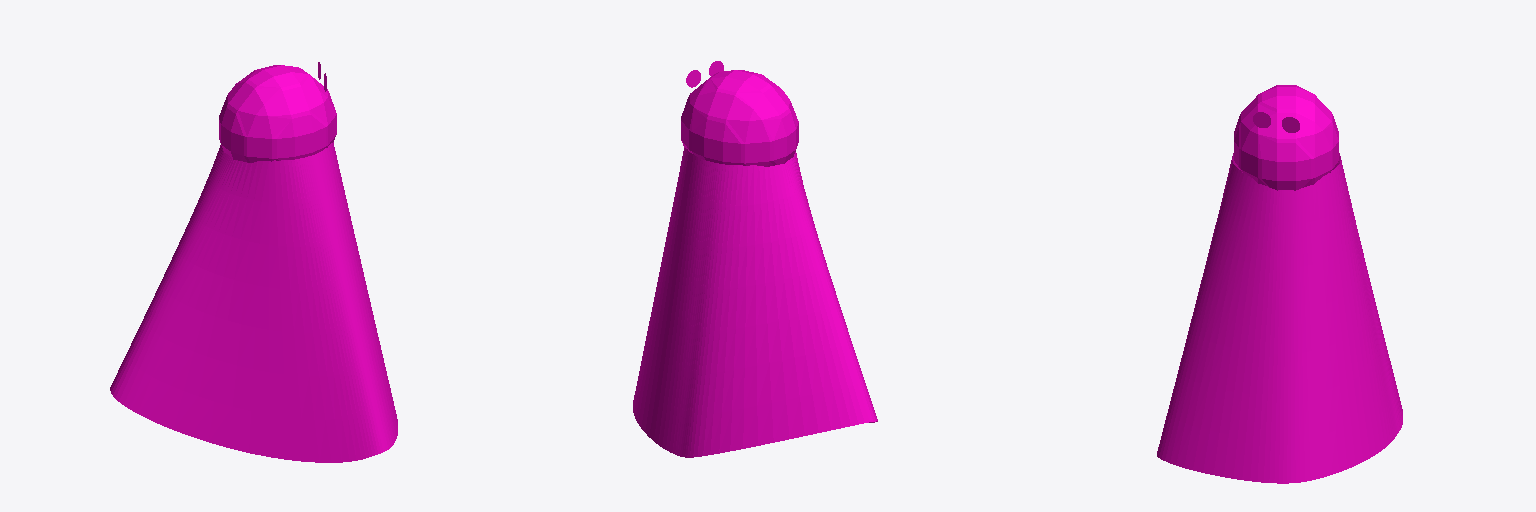
The model's file is ghost2_purple.obj.
3 renders of one model, left to right at view 1: azimuth 30°, elevation 25°; view 2: azimuth 150°, elevation 25°; view 3: azimuth 270°, elevation 25°, orthographic.
Visible parts, largest first — view 1: Surface, Mball; view 2: Surface, Mball; view 3: Surface, Mball.
Part boxes in pixels (x1,y1,x2,y2): Surface: (110, 142, 397, 462); Mball: (219, 65, 336, 162); Surface: (633, 148, 877, 457); Mball: (681, 70, 798, 166); Surface: (1157, 153, 1402, 483); Mball: (1234, 85, 1338, 190).
Size of the model in its own units: 5.36 by 7.2 by 4.55.